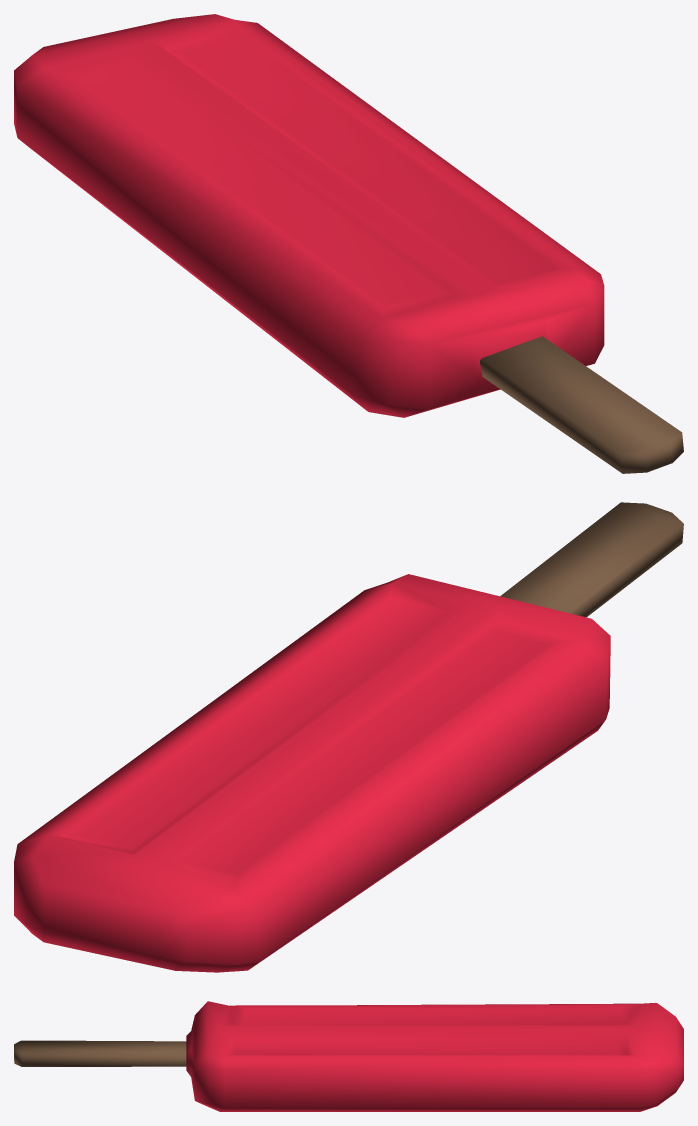
The model's file is popsicle.fbx.
3 views of the same model, one above another, from view 1: azimuth 30°, elevation 25°; view 2: azimuth 150°, elevation 25°; view 3: azimuth 270°, elevation 25° (orthographic). The views are drawn at different scales.
Visible parts, largest first — view 1: Cube; view 2: Cube; view 3: Cube.
Part boxes in pixels (x1,y1,x2,y2): Cube: [14, 14, 683, 473]; Cube: [14, 502, 683, 972]; Cube: [14, 1001, 683, 1111].
Bounding box in the file's own units: 797 × 203 × 75.44.
